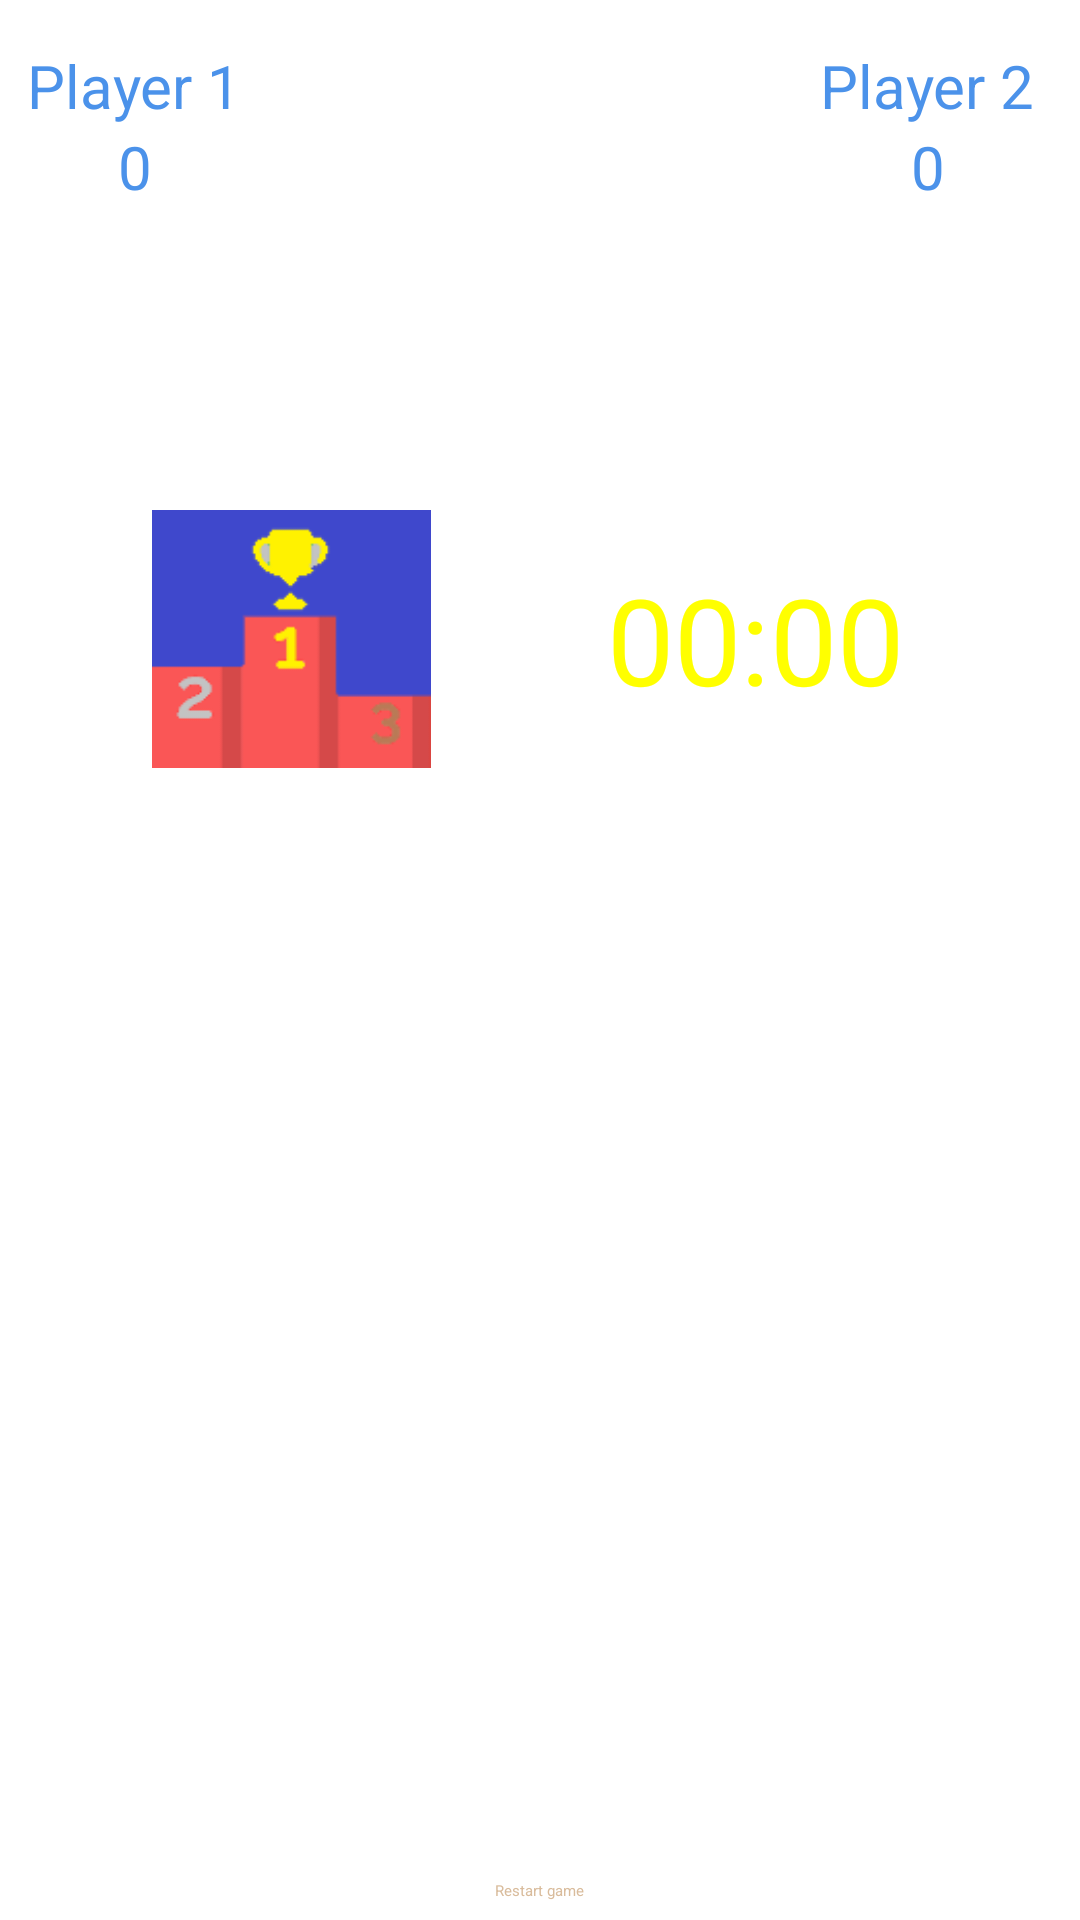

Locate icon controls on the screen. Image size 1080px x 1920px, boxes as BBox(x1, y1, x2, y2).
leaderboards tictactoe: BBox(152, 510, 431, 768)
